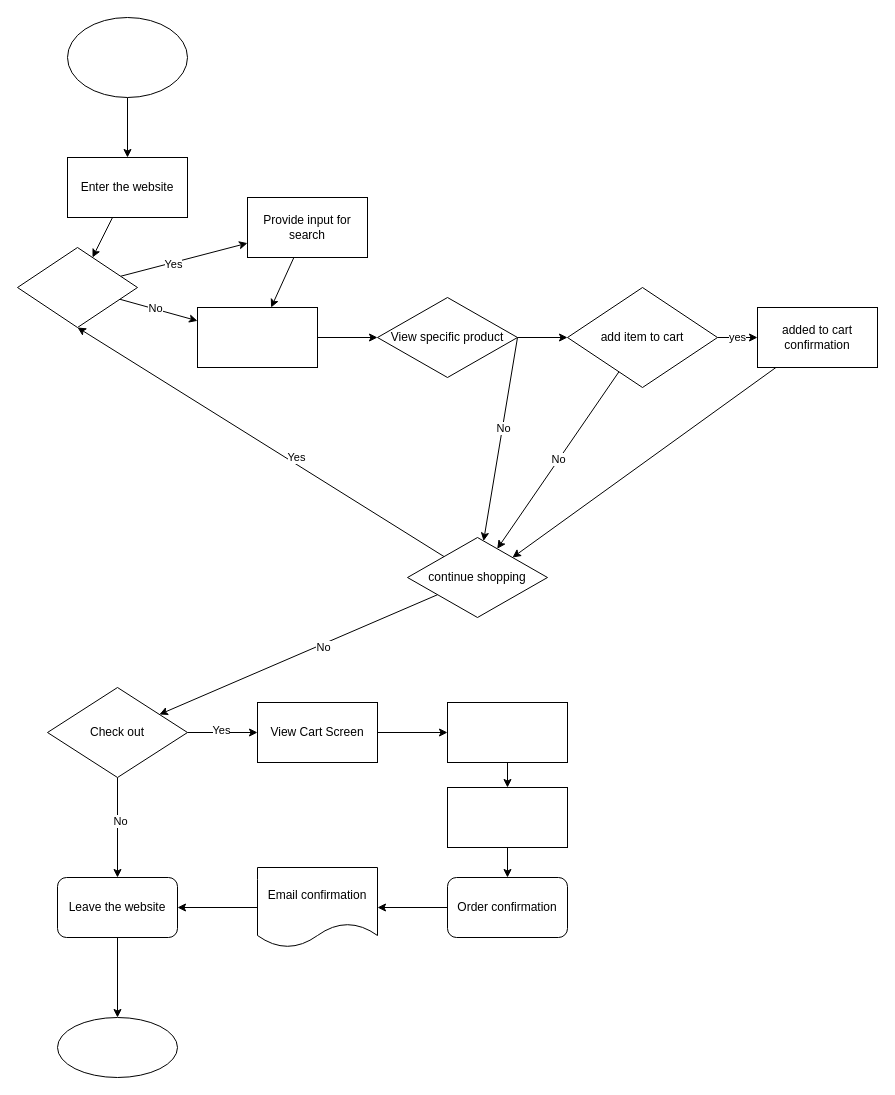
Image size: 895x1095. Some labels were removed from this diagram. The shapes that lost their labels are listed below. From the top down, each one's centre as x and y in pixels, then its label:
the point at 127,57: start
the point at 77,287: Search for product
the point at 257,337: Look over products
the point at 507,732: View Payment screen
the point at 507,817: input of payment info
the point at 117,1047: end
